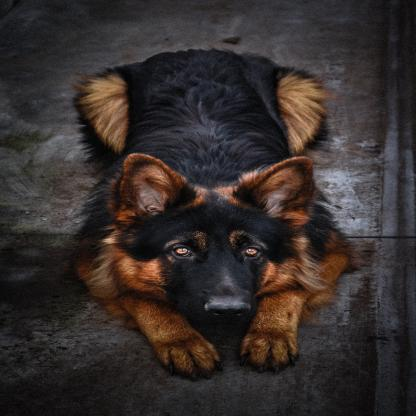german shepherd: (70, 49, 354, 375)
